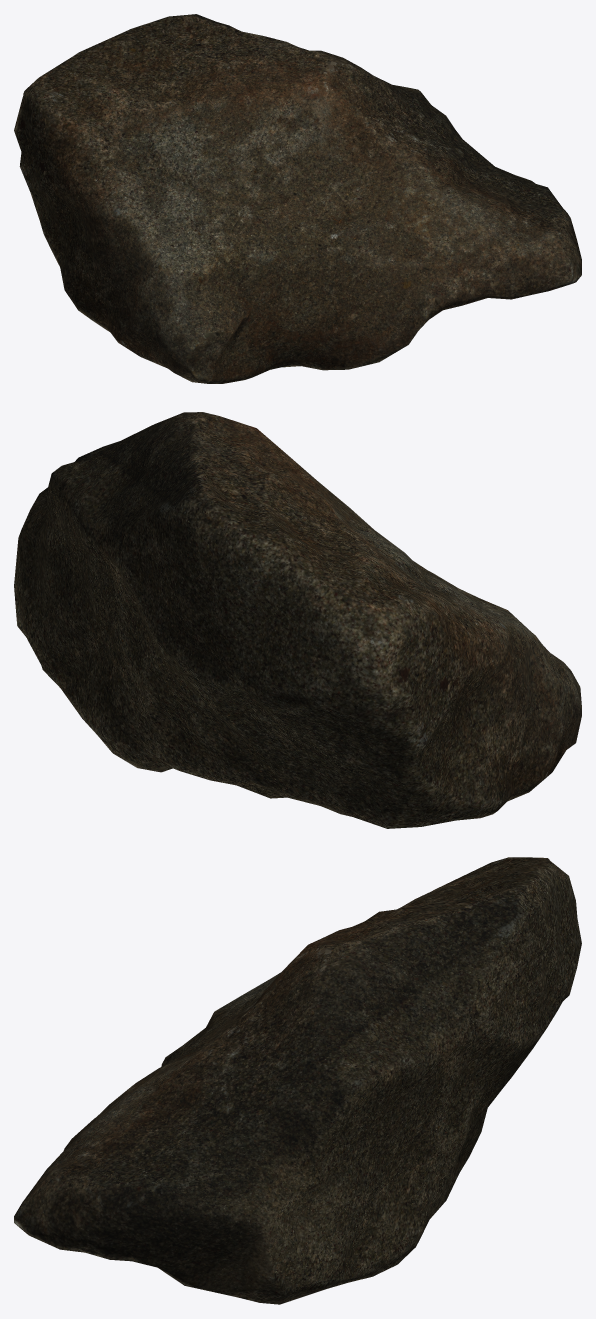
File: umilejohw_tier_2.gltf
3 views of the same model, one above another, from view 1: azimuth 30°, elevation 25°; view 2: azimuth 150°, elevation 25°; view 3: azimuth 270°, elevation 25° (orthographic). The views are drawn at different scales.
Parts seen in each view (by area): view 1: umilejohw_LOD0_TIER2_000; view 2: umilejohw_LOD0_TIER2_000; view 3: umilejohw_LOD0_TIER2_000.
Part boxes in pixels (x1,y1,x2,y2): umilejohw_LOD0_TIER2_000: (14,14,581,383); umilejohw_LOD0_TIER2_000: (14,412,581,828); umilejohw_LOD0_TIER2_000: (14,857,581,1304).
Size of the model in its own units: 0.14 by 0.0839 by 0.1375.
1 material, 1 textured.
